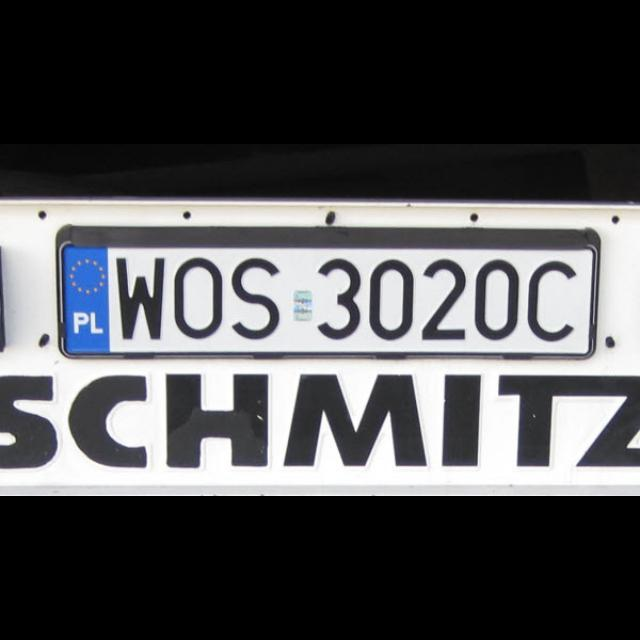license-plates: (68, 248, 597, 356)
